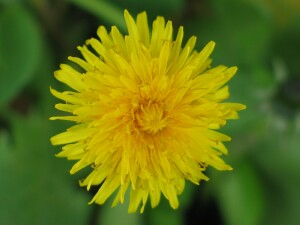dandelion: (56, 34, 233, 203)
